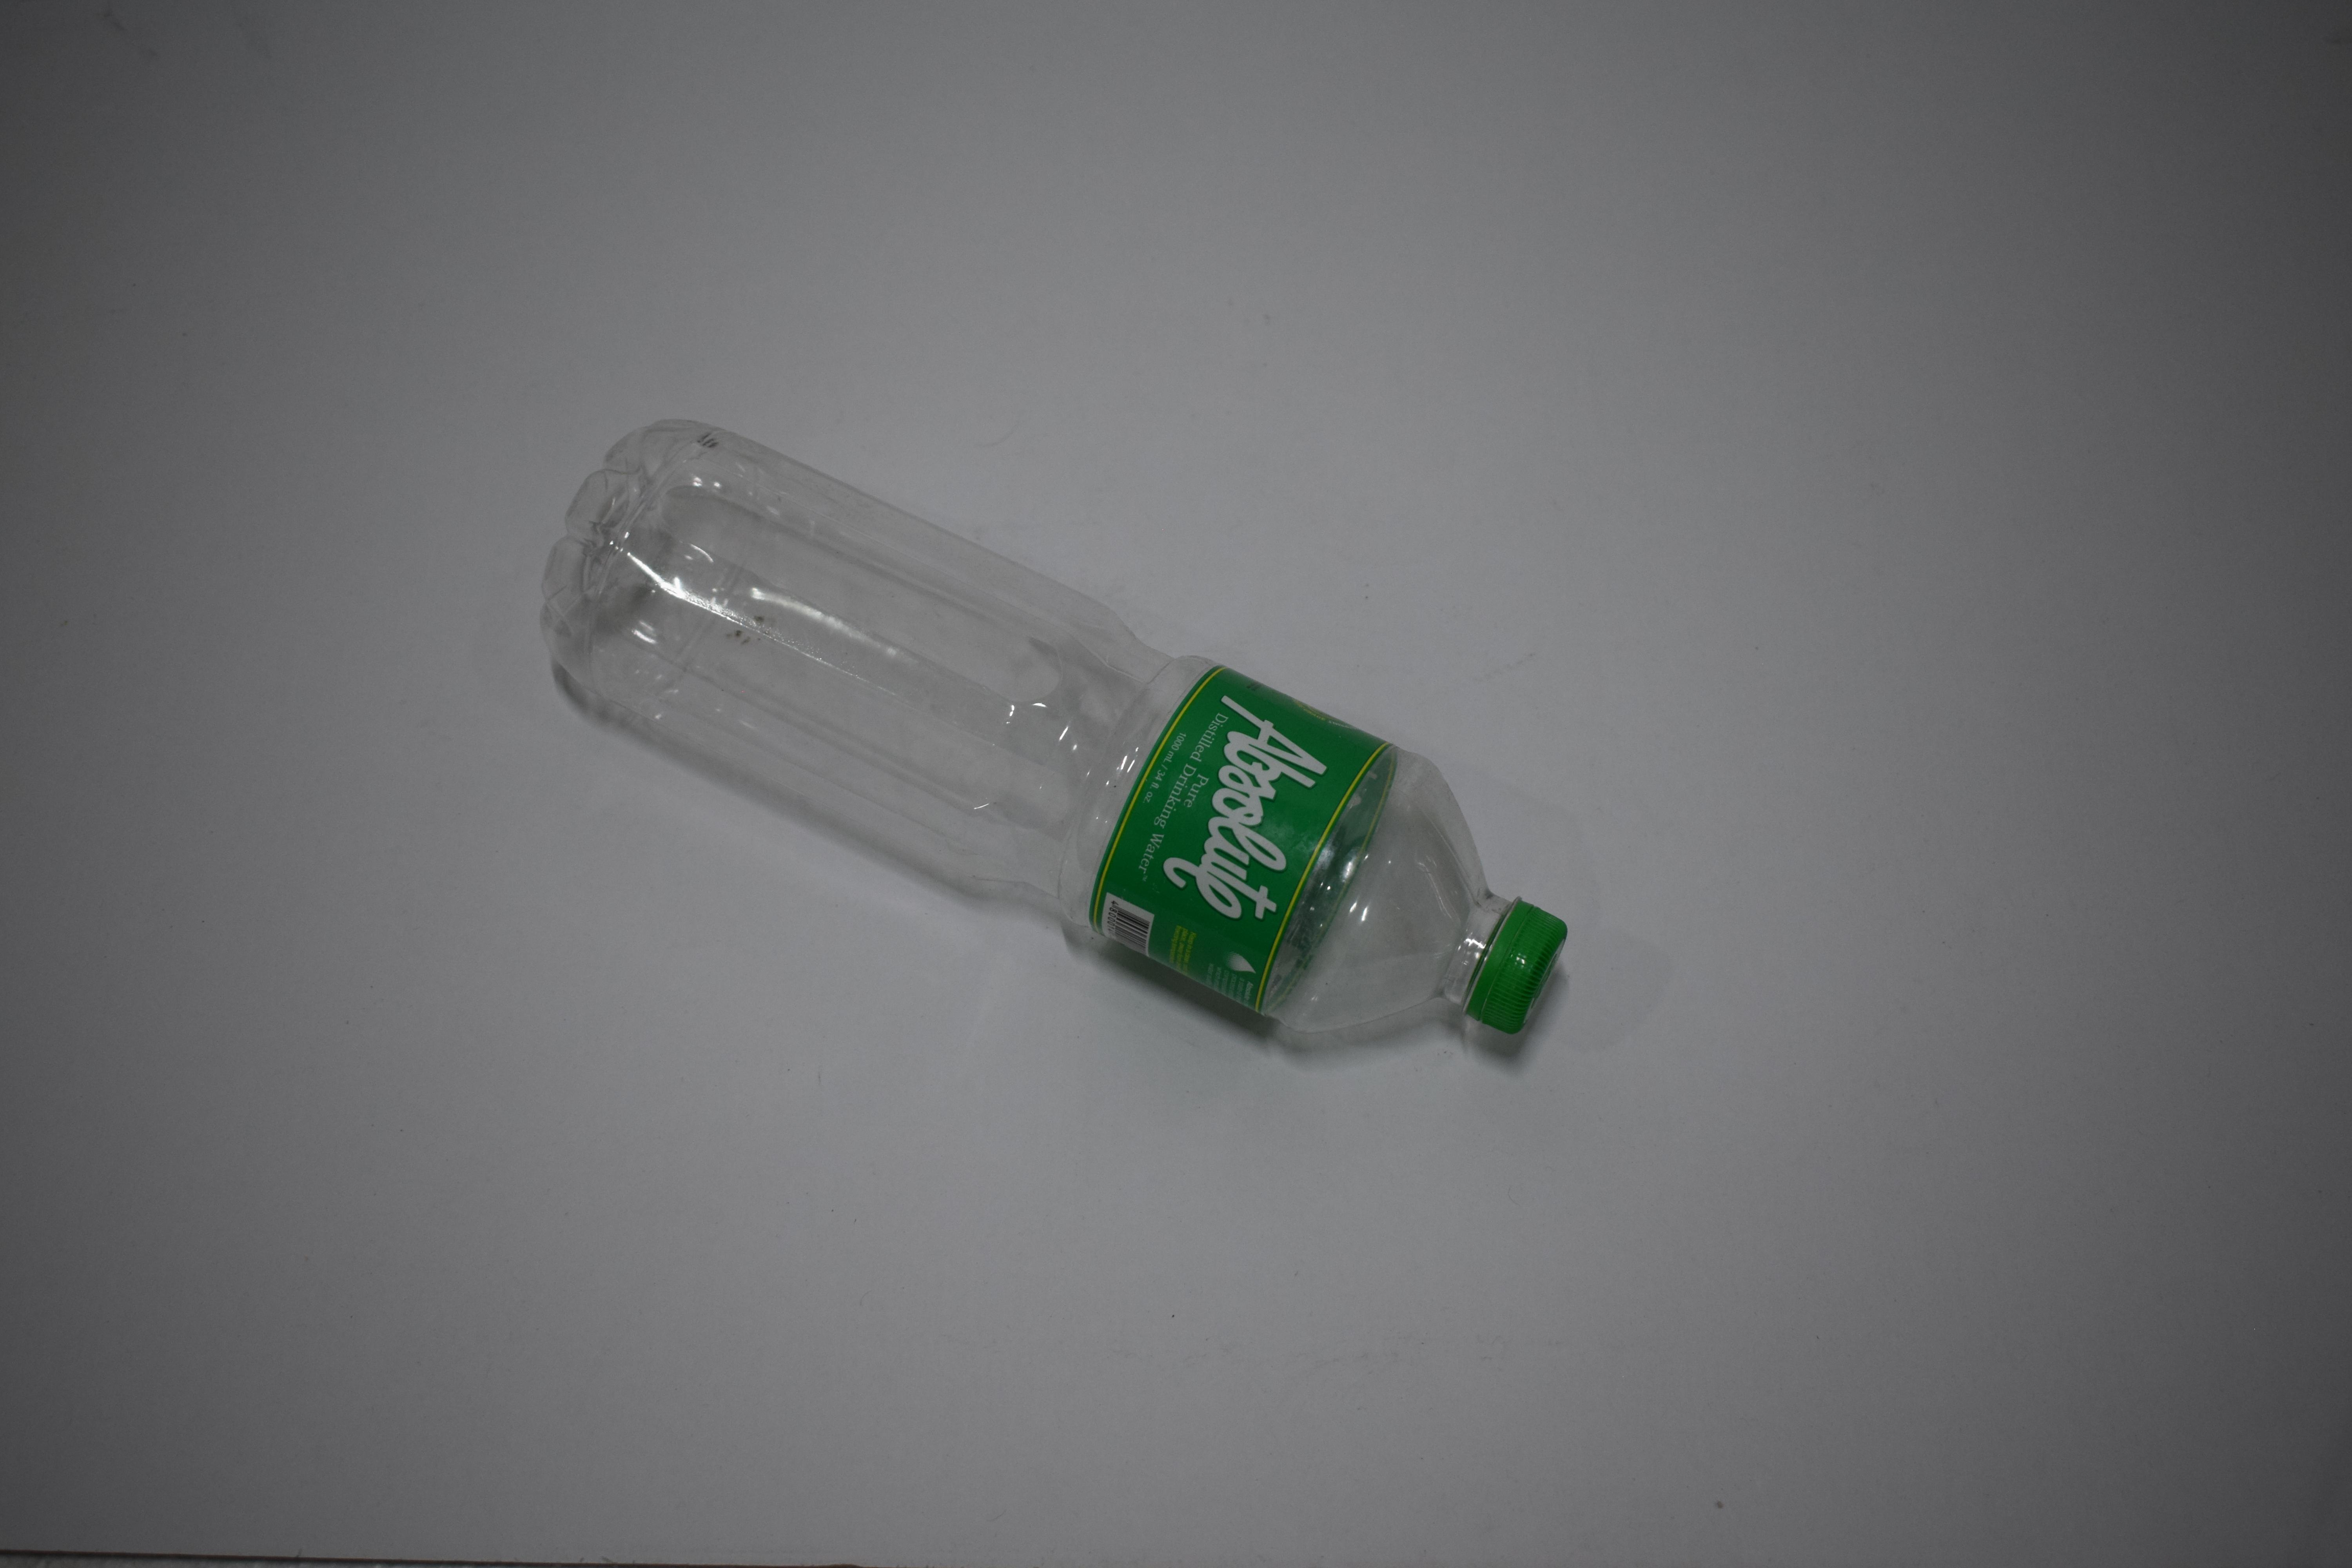bottle: (420, 408, 1463, 1062)
